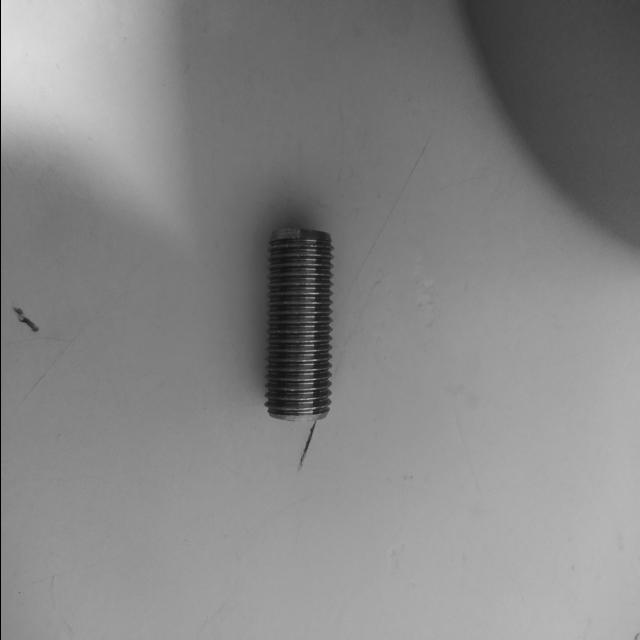Normal: (260, 225, 333, 422)
